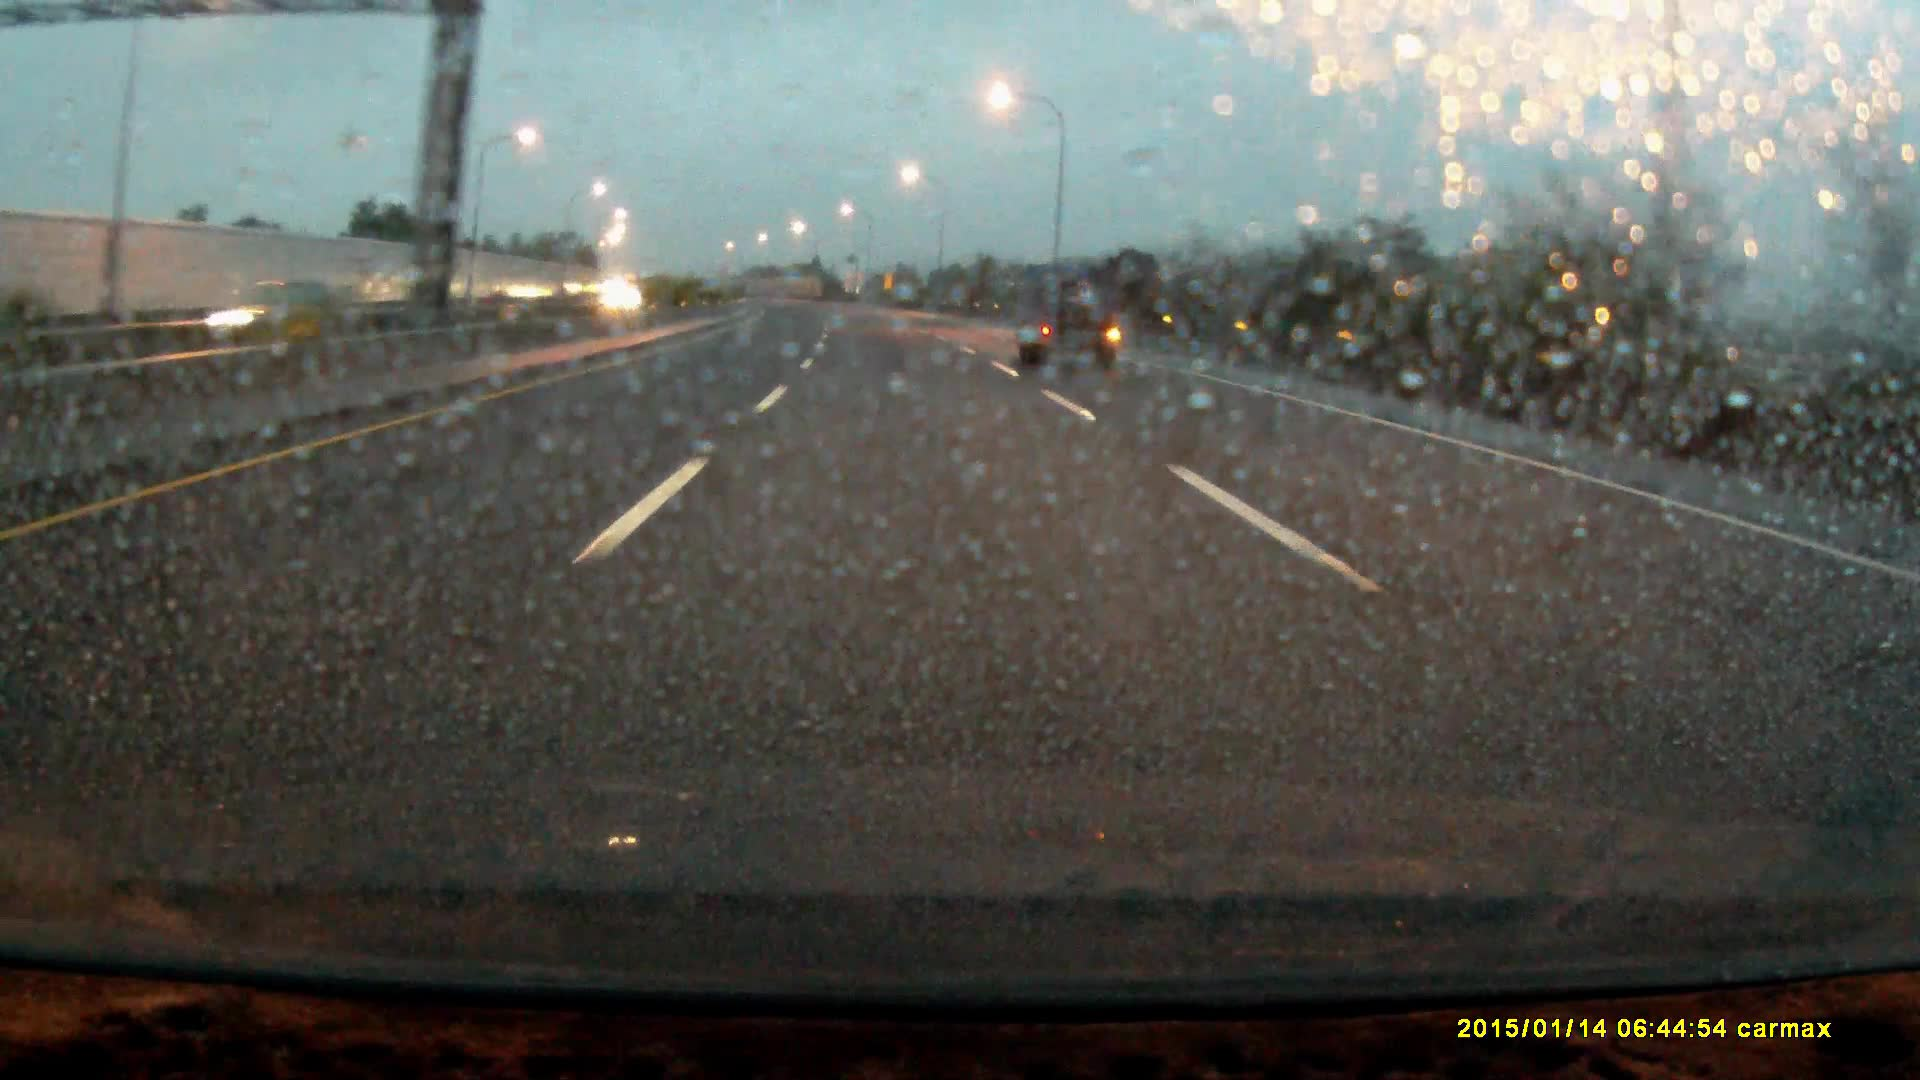vehicle: (88, 280, 282, 367), (1014, 274, 1117, 375), (578, 281, 647, 316)
